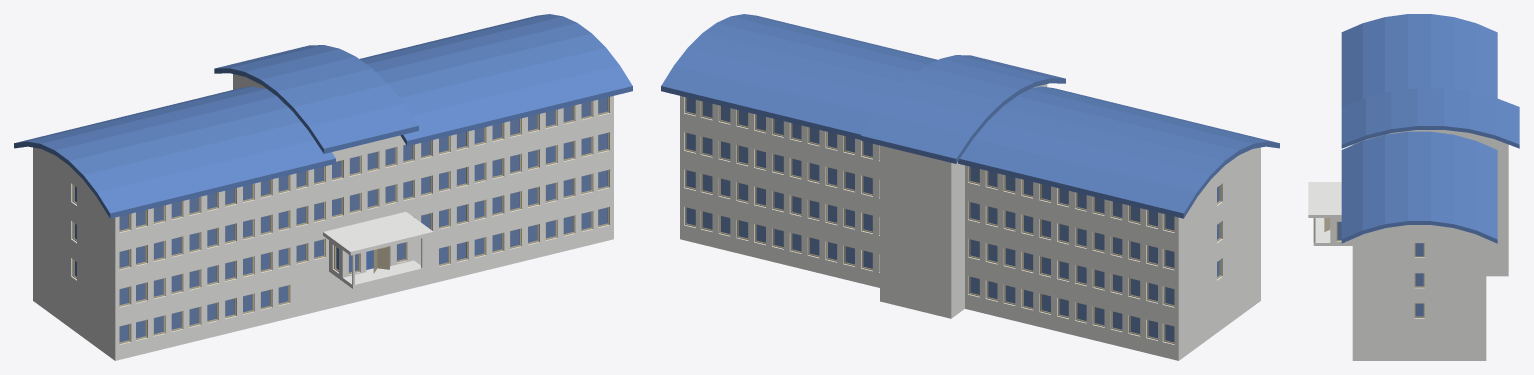
The picture shows the model from 3 angles, left to right: view 1: azimuth 30°, elevation 25°; view 2: azimuth 150°, elevation 25°; view 3: azimuth 270°, elevation 25°; orthographic projection. The views are drawn at different scales.
Parts seen in each view (by area): view 1: 2udBPbKibCZ8zbfpJmtDTM, 2oOoWKmmfChQTLCBzuB3$b, 2V1MCFZRf1GA2ZyRufjYwX, 3x663a8XD65viEHNLVdTxd, 3qT9lE$bTCQB_T41jFK_q6, 3nHMcJ8q56uR8twwvBap_b, 2Og5$70yb1DxR1TY1w8bzN, 3Kn4W2ZqD4K8KzX7iS3xhj, 01Hsj8Zoj47f3xDgoQzQH_, 01Q5XSApT1A8MVwFMrw27s, 0UobTn5dzETeVPsaqJjGpw, 1m13_kW2X8DhPK7Uom15kV (+42 smaller); view 2: 01DPZ9SBn5r9Sivd0bV8Ar, 1GL3Bl4yrCY9XKlcdMQiXb, 1r7dVjs_50zw9skBo0gwIq, 3EYxooj415QgvrtcQsy2Kh, 2UZhzWc8v0fA0sfv__WgLn, 0hEXM06OrA5gv_ZOu0dPhm, 0gf4zLSNHARQiAvK3qkBDz, 2LES77BC56KQ3R7uNhrxe2, 3BIJVubgnERQcs0rJzA8XO, 1sX1eJEdn4tx6WnOEIL8As, 0NhW4VLIbBiuXKiyGrq3kz, 0aqwE82KP5aAe5kL$$RBxu (+31 smaller); view 3: 1LnXM52pj1uP_ZpDnRRCRj, 3qMdsXfXrAvuL60mUR_8Vj, 1urUcYP71DIf1u38ogU1RV, 0FQY4AQwf2dup5RArZ6ZOG, 03TjDzhOTFX9jbLMrZ04Ko, 2j5_0TlNP02vq$h$fhXZI2, 1sX1eJEdn4tx6WnOEIL8As, 1m13_kW2X8DhPK7Uom15kV, 01Q5XSApT1A8MVwFMrw27s, 3qT9lE$bTCQB_T41jFK_q6, 1GL3Bl4yrCY9XKlcdMQiXb, 2Og5$70yb1DxR1TY1w8bzN (+26 smaller).
Part boxes in pixels (x1,y1,x2,y2): 2udBPbKibCZ8zbfpJmtDTM: [115, 127, 613, 282]; 2oOoWKmmfChQTLCBzuB3$b: [115, 202, 613, 356]; 2V1MCFZRf1GA2ZyRufjYwX: [115, 96, 613, 245]; 3x663a8XD65viEHNLVdTxd: [96, 140, 335, 218]; 3qT9lE$bTCQB_T41jFK_q6: [400, 65, 632, 146]; 3nHMcJ8q56uR8twwvBap_b: [115, 235, 328, 319]; 2Og5$70yb1DxR1TY1w8bzN: [33, 161, 613, 286]; 3Kn4W2ZqD4K8KzX7iS3xhj: [83, 122, 314, 195]; 01Hsj8Zoj47f3xDgoQzQH_: [410, 164, 613, 246]; 01Q5XSApT1A8MVwFMrw27s: [400, 48, 619, 115]; 0UobTn5dzETeVPsaqJjGpw: [69, 107, 300, 178]; 1m13_kW2X8DhPK7Uom15kV: [388, 33, 605, 97]; 01DPZ9SBn5r9Sivd0bV8Ar: [958, 138, 1197, 218]; 1GL3Bl4yrCY9XKlcdMQiXb: [661, 65, 875, 139]; 1r7dVjs_50zw9skBo0gwIq: [965, 234, 1178, 319]; 3EYxooj415QgvrtcQsy2Kh: [965, 197, 1178, 282]; 2UZhzWc8v0fA0sfv__WgLn: [965, 271, 1178, 356]; 0hEXM06OrA5gv_ZOu0dPhm: [974, 121, 1210, 195]; 0gf4zLSNHARQiAvK3qkBDz: [680, 202, 879, 284]; 2LES77BC56KQ3R7uNhrxe2: [680, 164, 879, 246]; 3BIJVubgnERQcs0rJzA8XO: [680, 127, 879, 209]; 1sX1eJEdn4tx6WnOEIL8As: [674, 48, 889, 114]; 0NhW4VLIbBiuXKiyGrq3kz: [988, 107, 1224, 178]; 0aqwE82KP5aAe5kL$$RBxu: [965, 165, 1178, 245]; 1LnXM52pj1uP_ZpDnRRCRj: [1352, 330, 1486, 357]; 3qMdsXfXrAvuL60mUR_8Vj: [1352, 270, 1486, 297]; 1urUcYP71DIf1u38ogU1RV: [1352, 300, 1486, 327]; 0FQY4AQwf2dup5RArZ6ZOG: [1352, 240, 1486, 266]; 03TjDzhOTFX9jbLMrZ04Ko: [1431, 131, 1454, 227]; 2j5_0TlNP02vq$h$fhXZI2: [1408, 131, 1431, 224]; 1sX1eJEdn4tx6WnOEIL8As: [1453, 135, 1476, 233]; 1m13_kW2X8DhPK7Uom15kV: [1385, 131, 1408, 227]; 01Q5XSApT1A8MVwFMrw27s: [1362, 135, 1385, 233]; 3qT9lE$bTCQB_T41jFK_q6: [1341, 141, 1363, 243]; 1GL3Bl4yrCY9XKlcdMQiXb: [1475, 141, 1497, 243]; 2Og5$70yb1DxR1TY1w8bzN: [1308, 182, 1508, 300].
Bounding box in the file's own units: 44 × 15.35 × 19.
